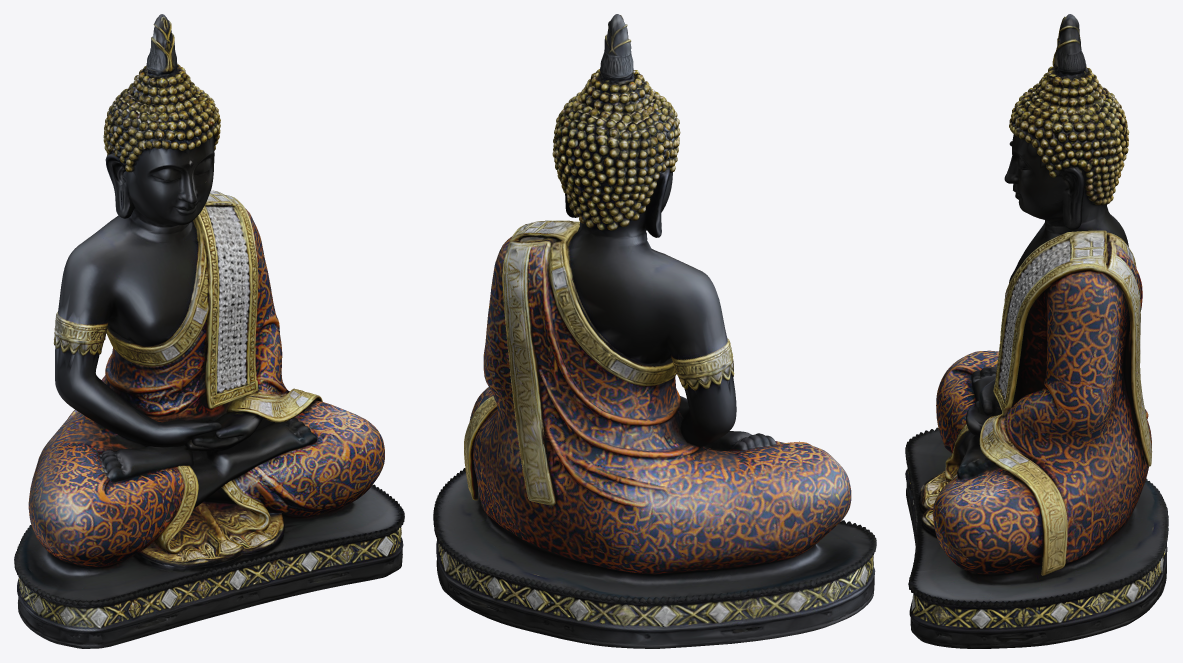
The model's file is buddha_5.glb.
The picture shows the model from 3 angles, left to right: view 1: azimuth 30°, elevation 25°; view 2: azimuth 150°, elevation 25°; view 3: azimuth 270°, elevation 25°; orthographic projection. The views are drawn at different scales.
Visible parts, largest first — view 1: tripo_node_ec33307c-6ead-44a2-aad3-28549f8b2d39; view 2: tripo_node_ec33307c-6ead-44a2-aad3-28549f8b2d39; view 3: tripo_node_ec33307c-6ead-44a2-aad3-28549f8b2d39.
Boxes of the visible parts, x1,y1,x2,y2 form: tripo_node_ec33307c-6ead-44a2-aad3-28549f8b2d39: [14, 14, 404, 648]; tripo_node_ec33307c-6ead-44a2-aad3-28549f8b2d39: [433, 14, 876, 648]; tripo_node_ec33307c-6ead-44a2-aad3-28549f8b2d39: [905, 14, 1168, 648].
Bounding box in the file's own units: 0.6889 × 0.9784 × 0.428.
Materials: 1 (1 with a texture image).
